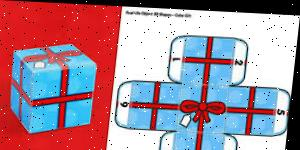cube: (7, 41, 102, 134)
